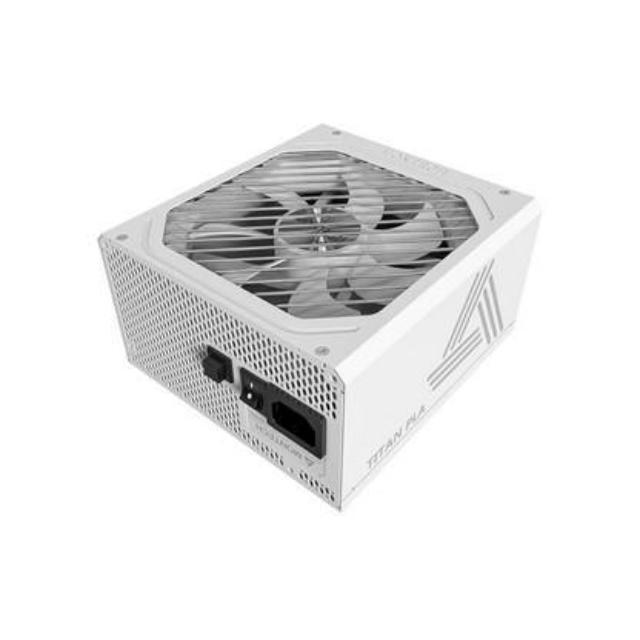PSU: (92, 119, 544, 524)
